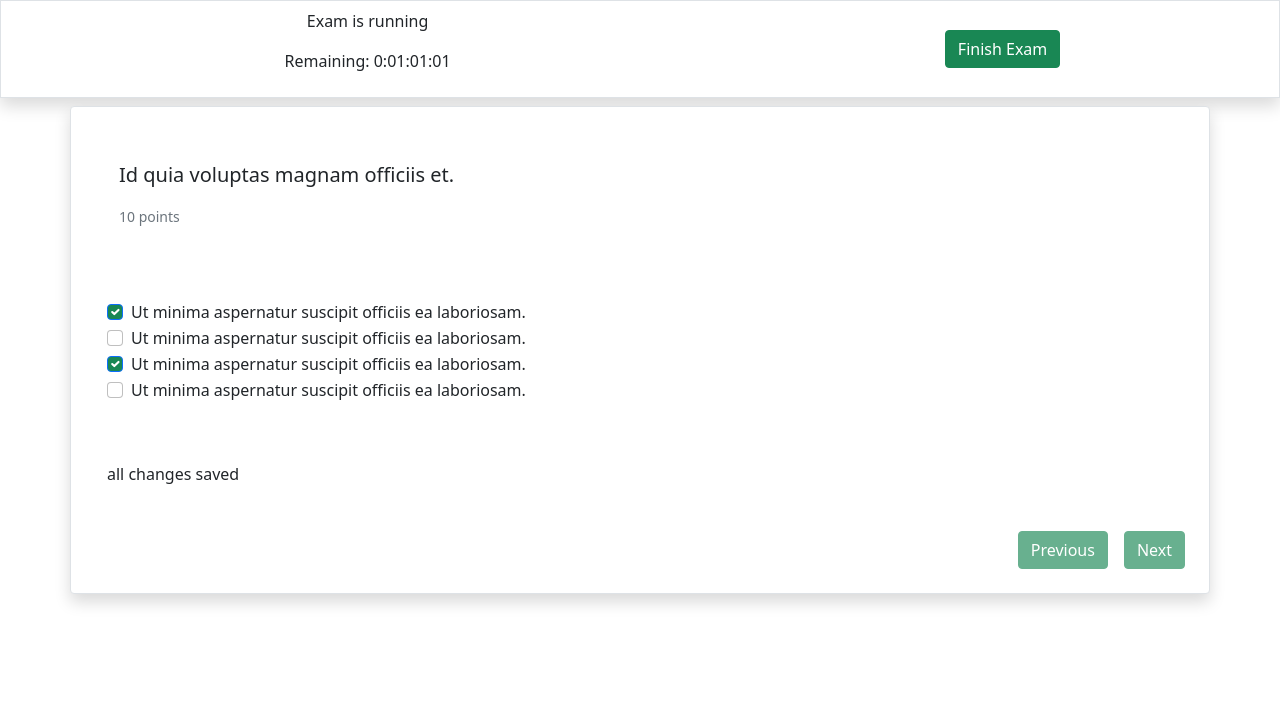
Scenario: check multiple answers questions › if the question has answer, user can change the answers
Click the 1st checkbox labelled "Ut minima aspernatur suscipit officiis ea laboriosam." at point(115, 312), box [107,304,123,320]
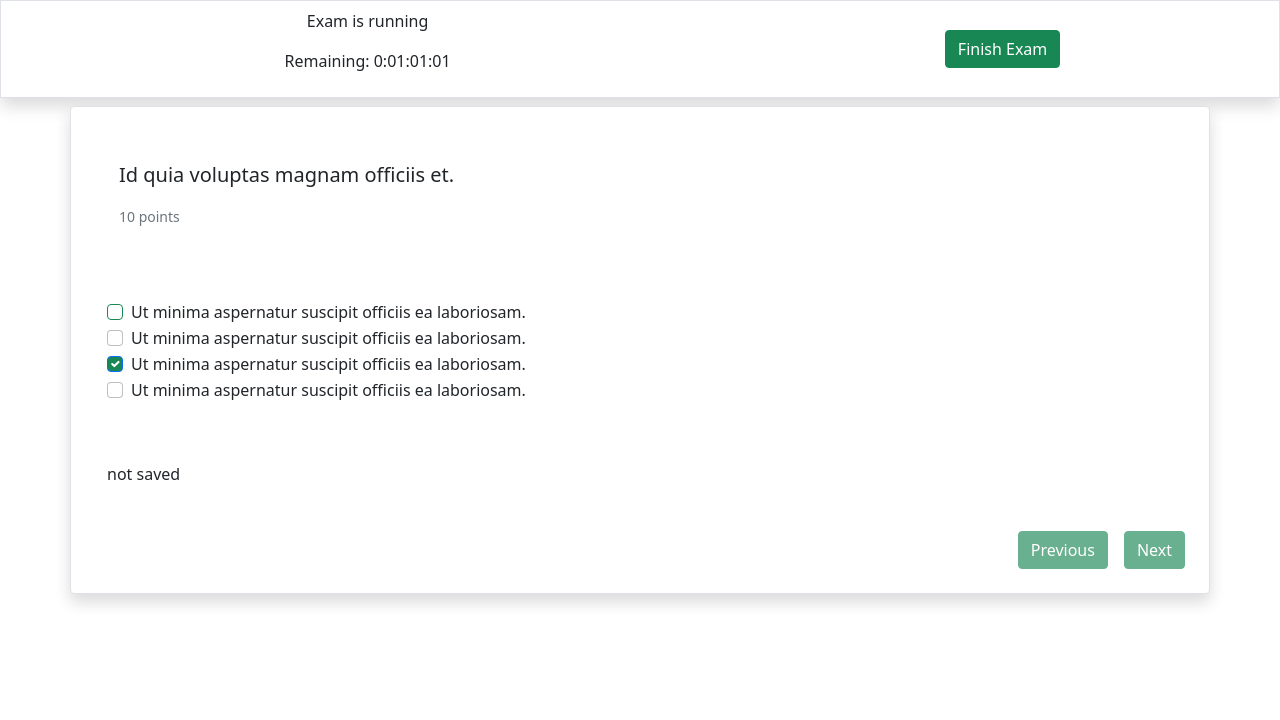
Click the 2nd checkbox labelled "Ut minima aspernatur suscipit officiis ea laboriosam." at point(115, 338), box [107,330,123,346]
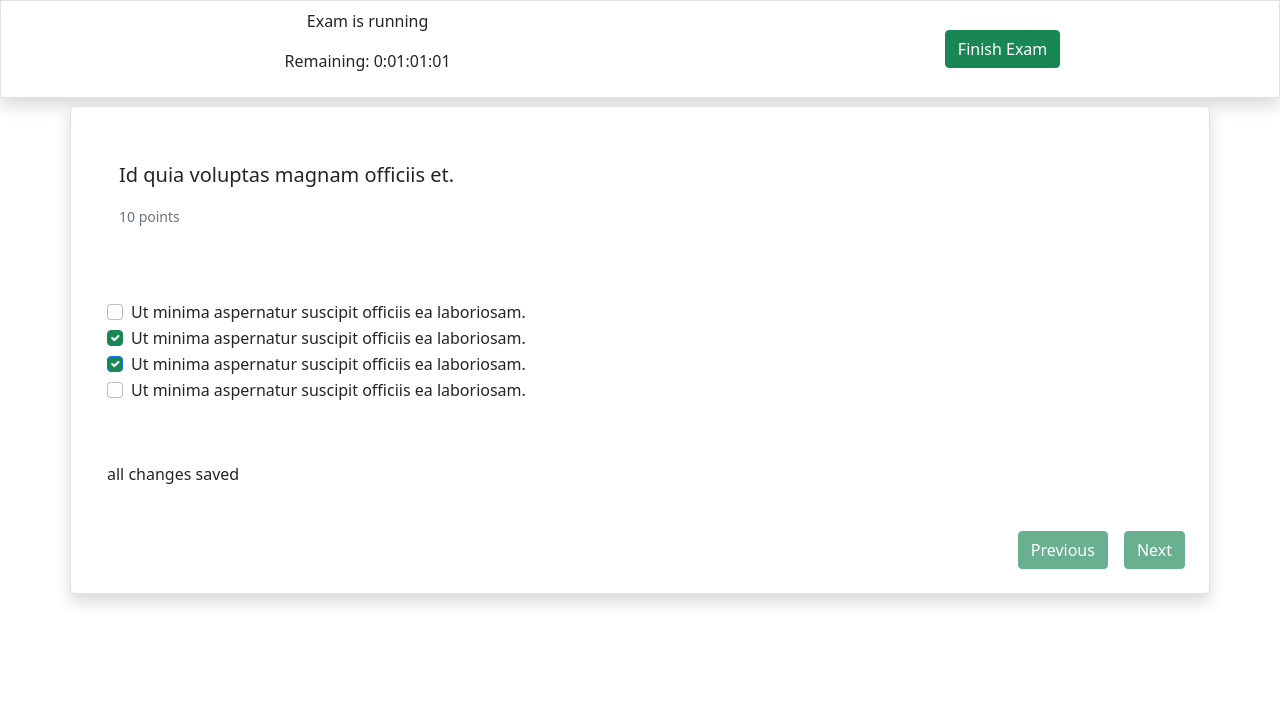
Result: the 2nd checkbox labelled "Ut minima aspernatur suscipit officiis ea laboriosam." is checked at [107,330,123,346]
Result: the 1st checkbox labelled "Ut minima aspernatur suscipit officiis ea laboriosam." is not checked at [107,304,123,320]
Result: the text "all changes saved" is shown at [107,463,239,485]
